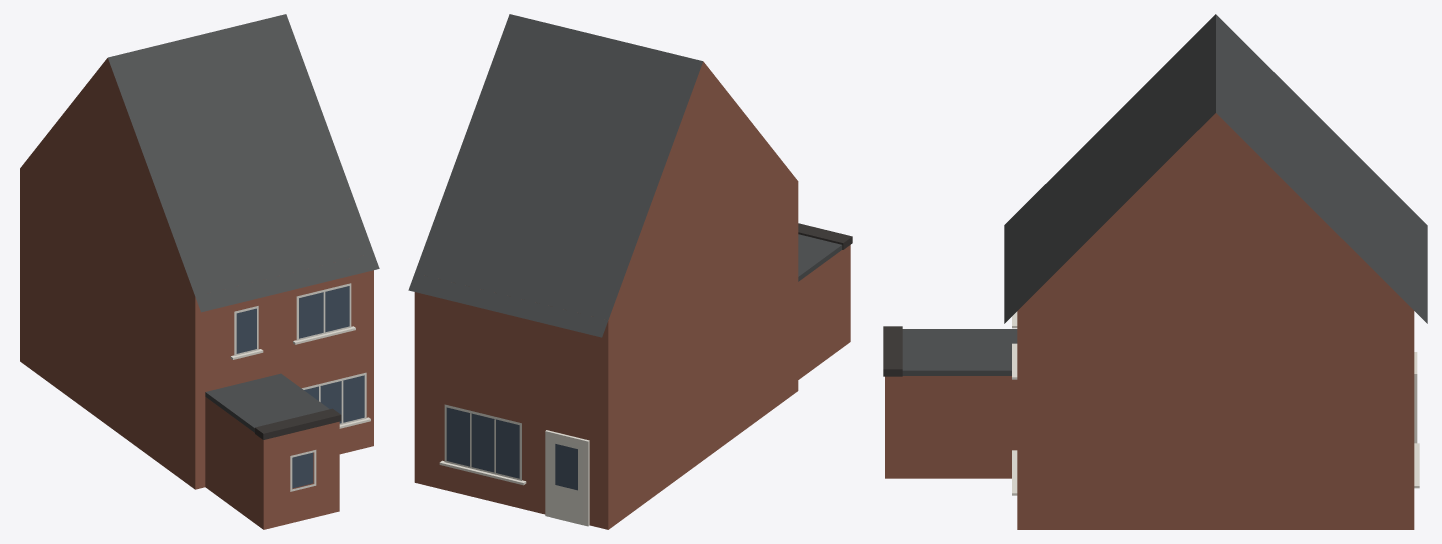
Rendered from zo-ho-annex__brick__2__gable__long__solid__mirror.glb.
The picture shows the model from 3 angles, left to right: view 1: azimuth 30°, elevation 25°; view 2: azimuth 150°, elevation 25°; view 3: azimuth 270°, elevation 25°; orthographic projection. The views are drawn at different scales.
Visible parts, largest first — view 1: zo-ho-annex__brick__2__gable__long__solid__mirror; view 2: zo-ho-annex__brick__2__gable__long__solid__mirror; view 3: zo-ho-annex__brick__2__gable__long__solid__mirror.
Boxes of the visible parts, x1=… form: zo-ho-annex__brick__2__gable__long__solid__mirror: x1=20, y1=14, x2=379, y2=529; zo-ho-annex__brick__2__gable__long__solid__mirror: x1=408, y1=14, x2=852, y2=529; zo-ho-annex__brick__2__gable__long__solid__mirror: x1=883, y1=14, x2=1427, y2=529.
Bounding box in the file's own units: 5.3 × 10.44 × 12.39.
